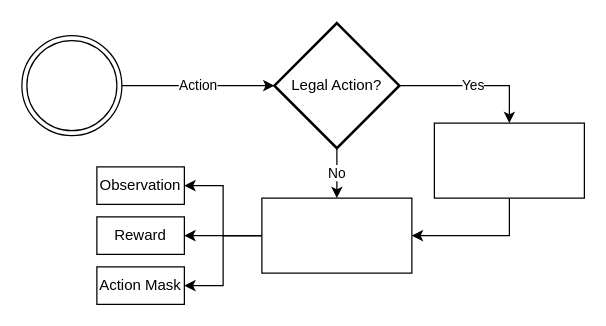
Image size: 606x326. Some labels were removed from this diagram. Each missing label, with the box of its shape:
Environment: (261, 197, 412, 273)
State Update: (433, 122, 584, 198)
